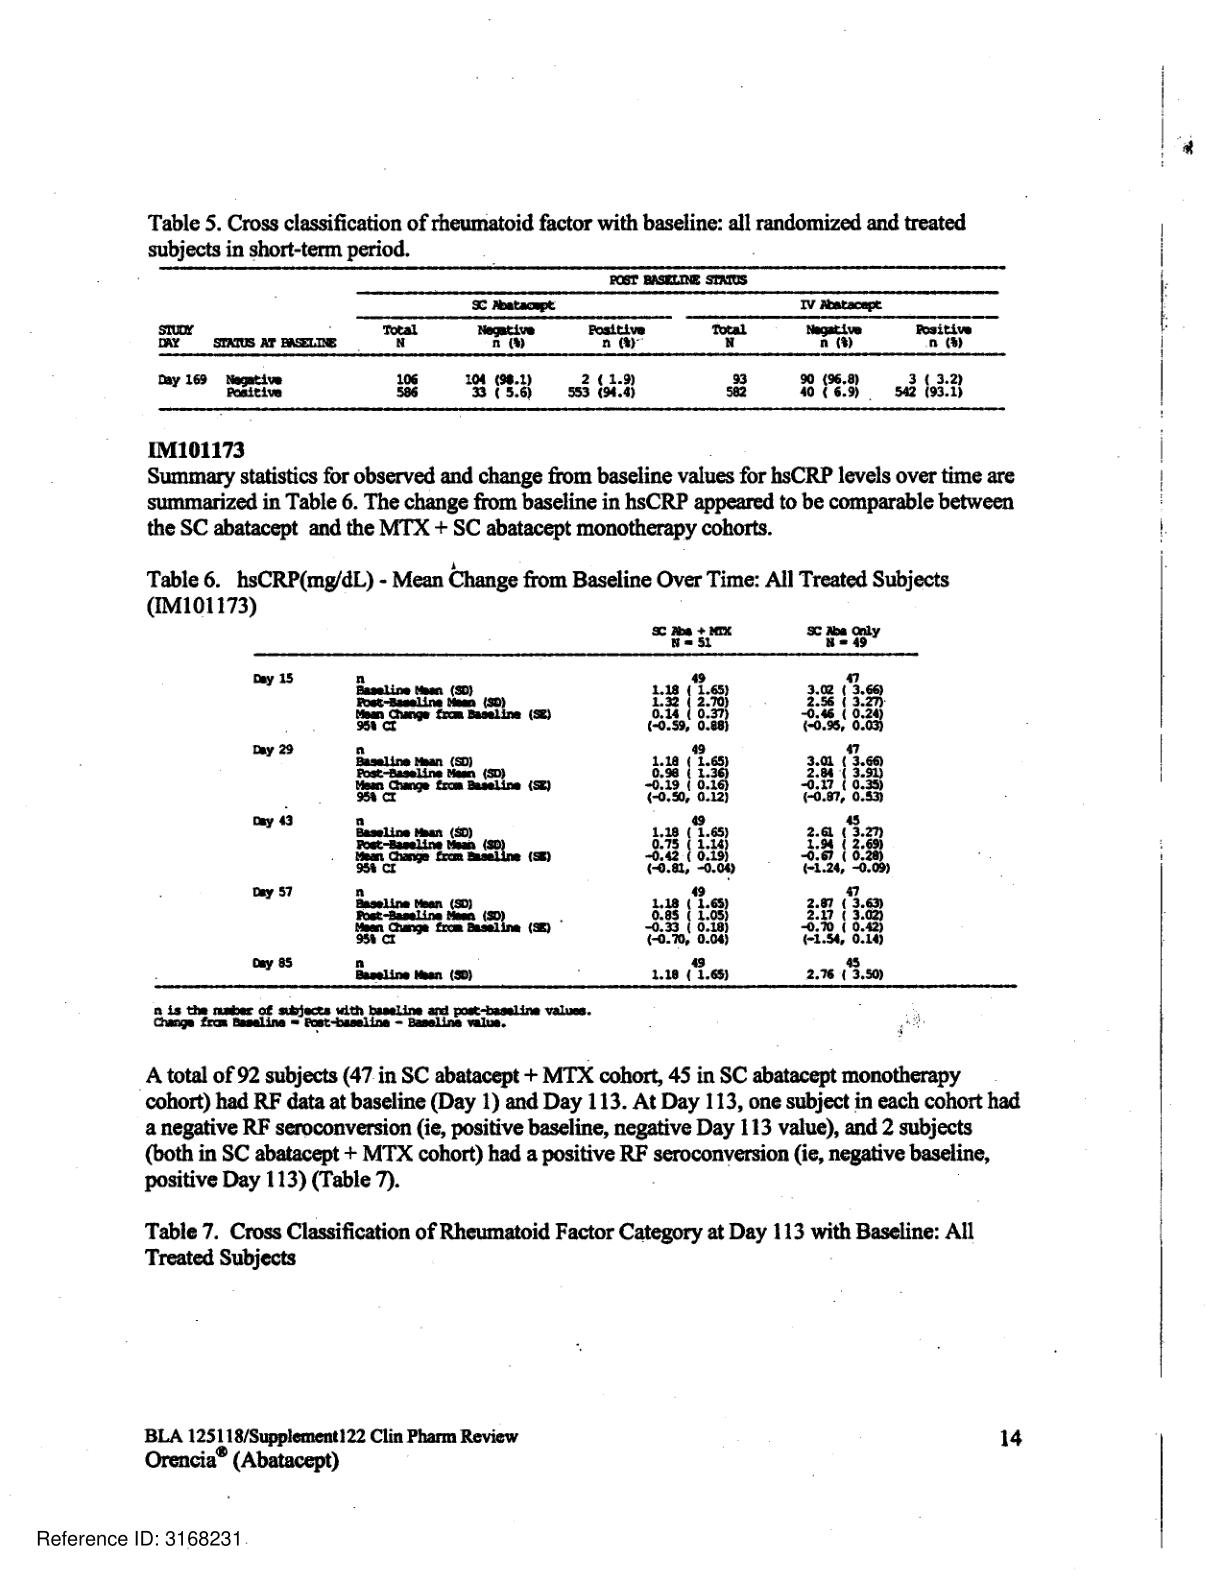partial_lined: (152, 624, 1020, 991)
partial_lined_merged_cells: (155, 265, 1008, 412)
